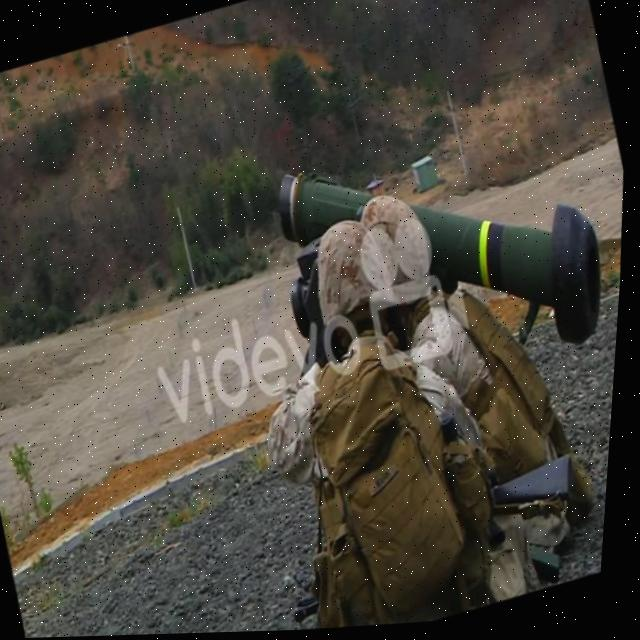rocket: (269, 99, 628, 424)
